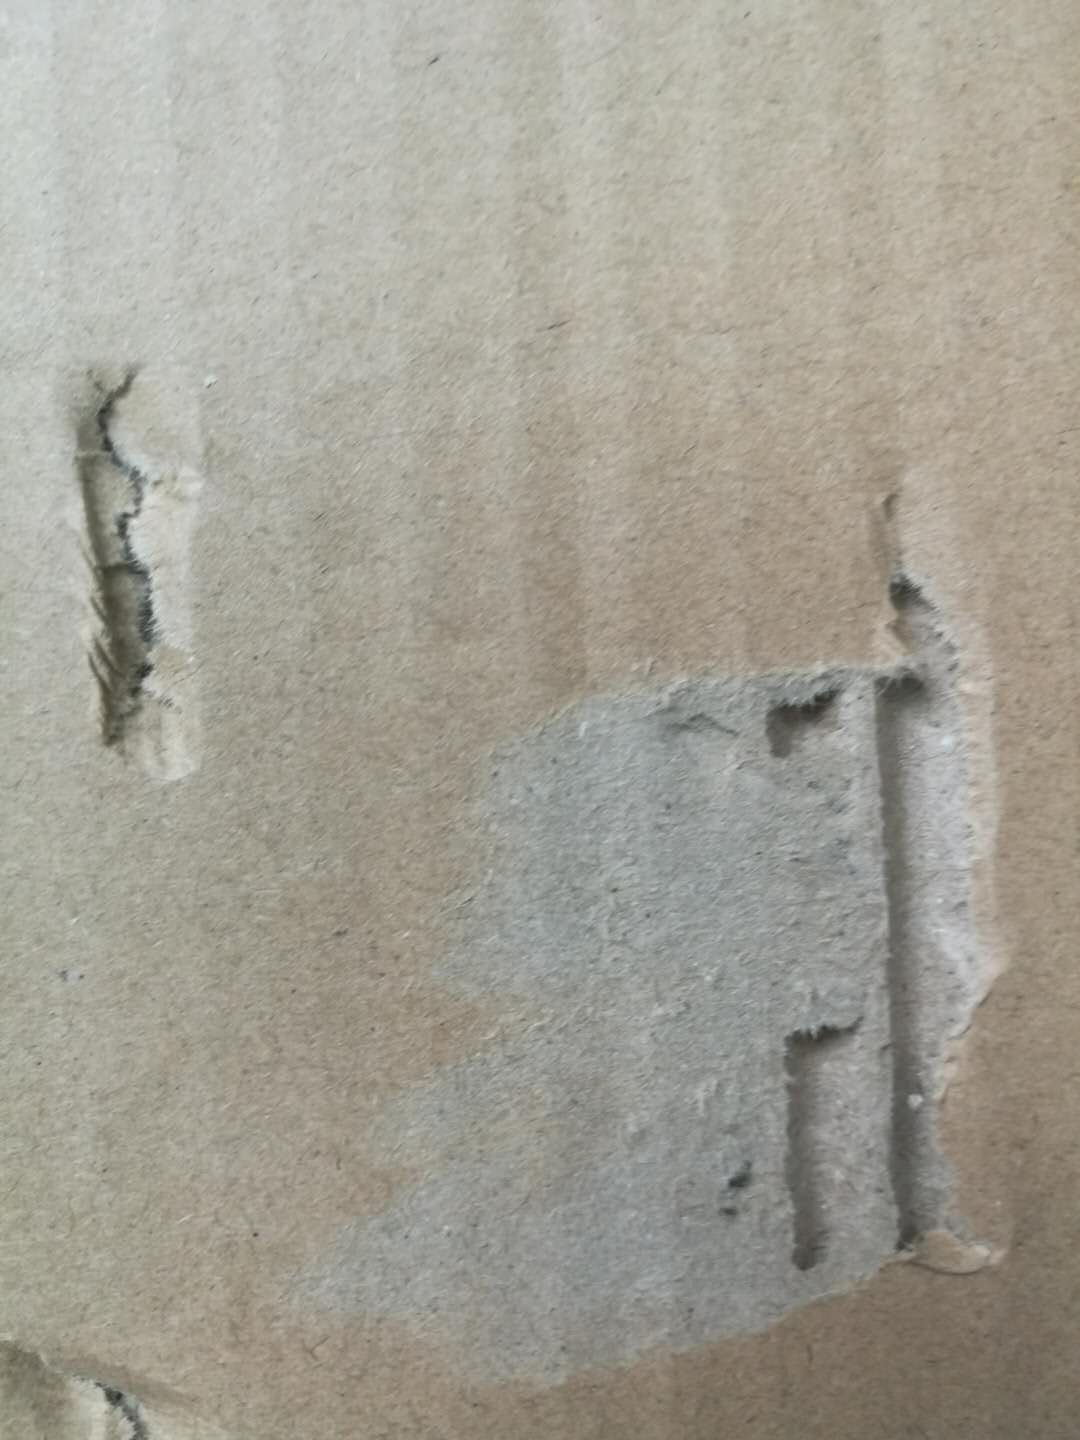defect: (258, 475, 1049, 1396), (26, 327, 262, 818), (2, 1307, 253, 1440)
